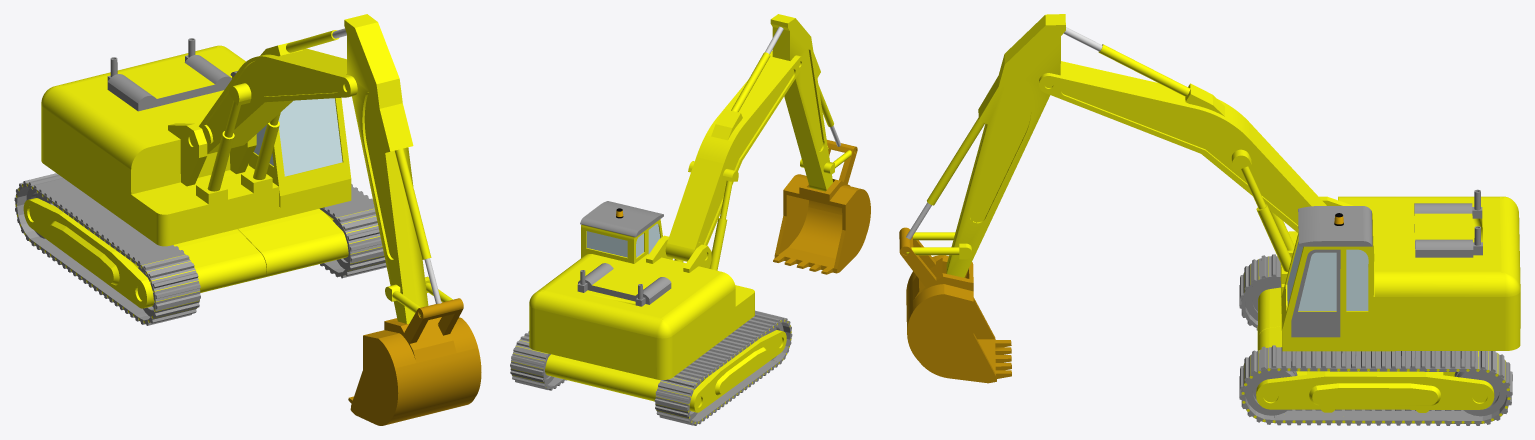
File: BackHoeImport.fbx
The picture shows the model from 3 angles, left to right: view 1: azimuth 30°, elevation 25°; view 2: azimuth 150°, elevation 25°; view 3: azimuth 270°, elevation 25°; orthographic projection. The views are drawn at different scales.
Visible parts, largest first — view 1: CabinFrame, Tracks, TrackFrame, Bucket, FrontArm, BackArm, BackArmPistons, BucketPiston, BackArmPistonsArmatures, FrontArmPiston; view 2: CabinFrame, BackArm, Bucket, Tracks, TrackFrame, FrontArm, FrontArmPiston, BackArmPistons, BackArmPistonsArmatures; view 3: CabinFrame, BackArm, Tracks, FrontArm, TrackFrame, Bucket, BackArmPistons, FrontArmPiston, BucketPiston, BackArmPistonsArmatures.
Boxes of the visible parts, left/top/right/bottom form: CabinFrame: left=41, top=38, right=351, bottom=246; Tracks: left=14, top=173, right=386, bottom=325; TrackFrame: left=23, top=198, right=348, bottom=308; Bucket: left=348, top=298, right=481, bottom=425; FrontArm: left=344, top=14, right=428, bottom=324; BackArm: left=199, top=41, right=357, bottom=154; BackArmPistons: left=207, top=121, right=279, bottom=191; BucketPiston: left=394, top=148, right=431, bottom=259; BackArmPistonsArmatures: left=224, top=83, right=280, bottom=137; FrontArmPiston: left=286, top=30, right=338, bottom=52; CabinFrame: left=529, top=201, right=754, bottom=379; BackArm: left=665, top=51, right=803, bottom=261; Bucket: left=773, top=140, right=870, bottom=274; Tracks: left=510, top=310, right=792, bottom=425; TrackFrame: left=545, top=330, right=786, bottom=412; FrontArm: left=770, top=14, right=832, bottom=191; FrontArmPiston: left=731, top=52, right=770, bottom=112; BackArmPistons: left=674, top=218, right=727, bottom=270; BackArmPistonsArmatures: left=688, top=161, right=738, bottom=219; CabinFrame: left=1280, top=189, right=1520, bottom=351; BackArm: left=1039, top=61, right=1326, bottom=232; Tracks: left=1239, top=254, right=1512, bottom=425; FrontArm: left=946, top=14, right=1065, bottom=277; TrackFrame: left=1256, top=287, right=1494, bottom=409; Bucket: left=899, top=227, right=1011, bottom=383; BackArmPistons: left=1256, top=204, right=1294, bottom=271; FrontArmPiston: left=1098, top=44, right=1190, bottom=96; BucketPiston: left=927, top=118, right=984, bottom=205; BackArmPistonsArmatures: left=1231, top=149, right=1265, bottom=209.
Size of the model in its own units: 375 by 517 by 843.
